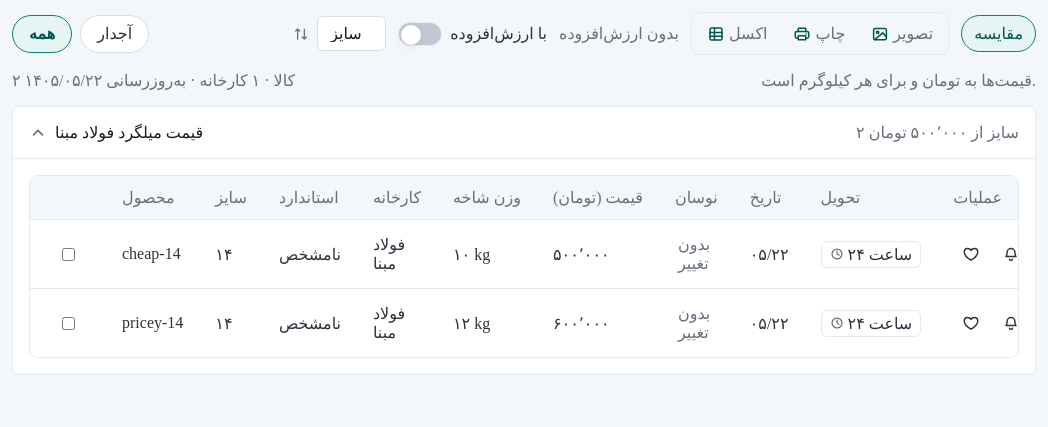
PriceTable — compare selection feedback (US-P0.2) › explains why the compare button is still disabled with exactly one item picked
The width and height of the screenshot is (1048, 427).
Click the checkbox named "افزودن cheap-14 به مقایسه": click(68, 254) [62,248,75,260]
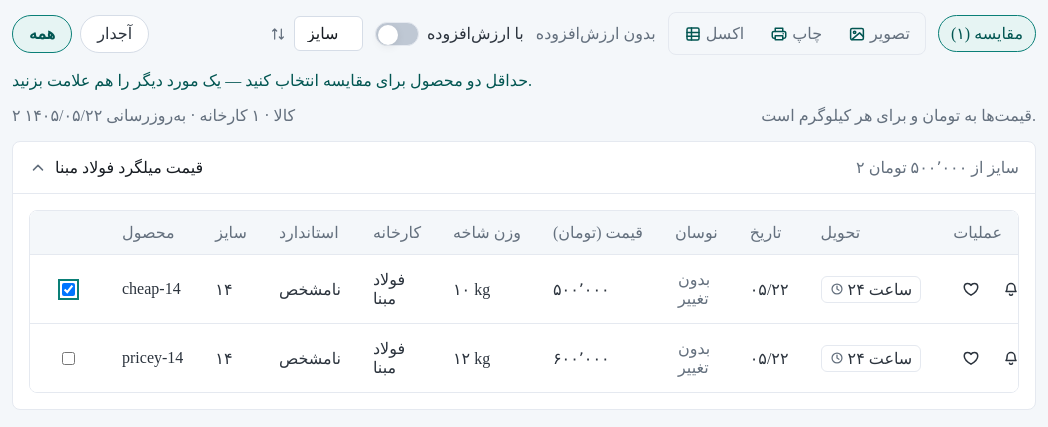
Expected: the text "حداقل دو محصول برای مقایسه انتخاب کنید — یک مورد دیگر را هم علامت بزنید." is shown, [12,72,532,89]
Click the checkbox named "افزودن pricey-14 به مقایسه": click(68, 358) [62,352,75,364]
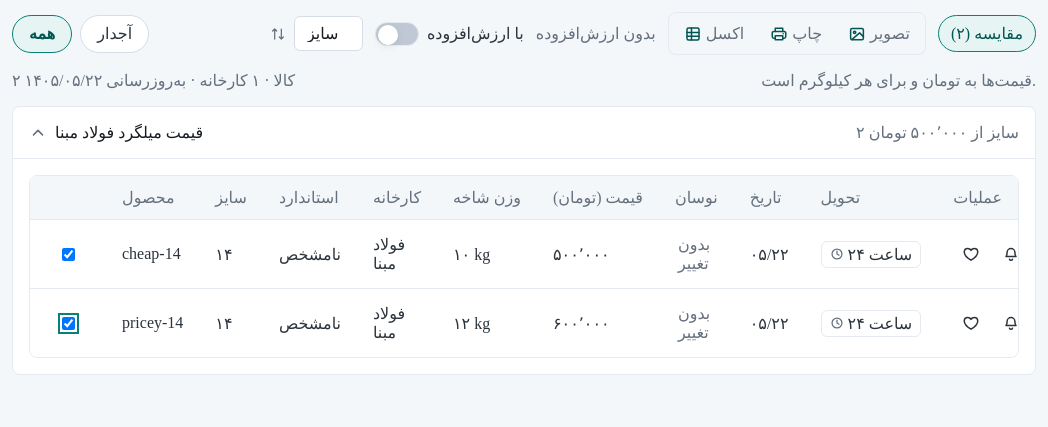
Expected: the text "حداقل دو محصول برای مقایسه انتخاب کنید — یک مورد دیگر را هم علامت بزنید." is gone
